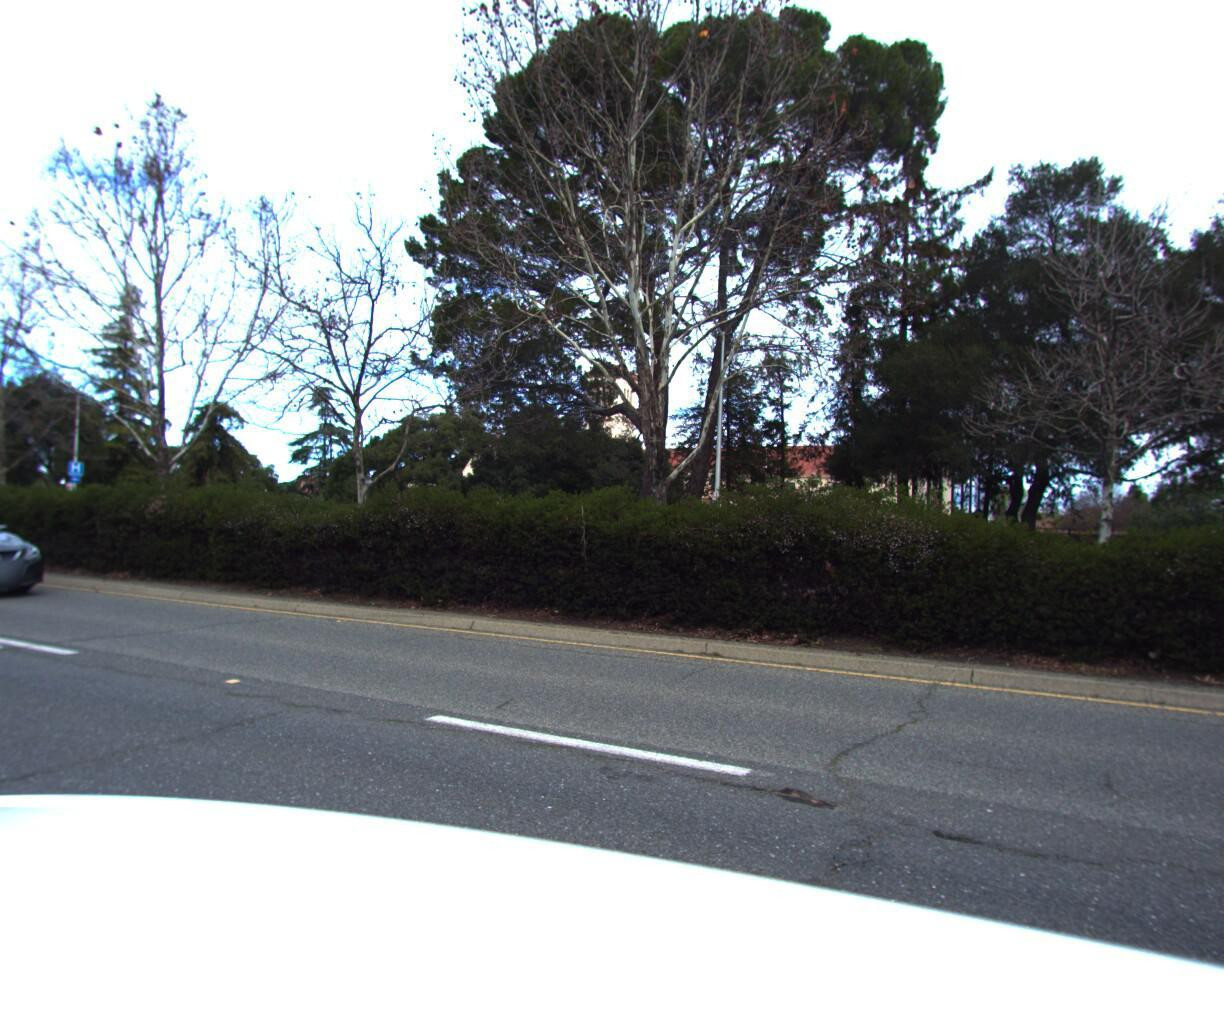car: (0, 503, 64, 614)
